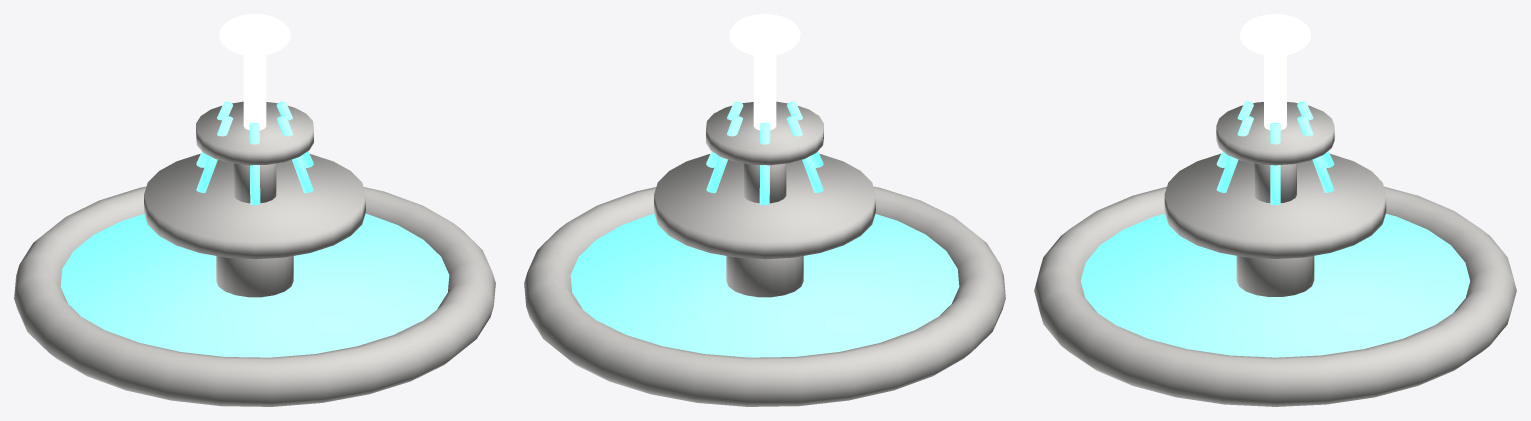
Rendered from fountain.glb.
The picture shows the model from 3 angles, left to right: view 1: azimuth 30°, elevation 25°; view 2: azimuth 150°, elevation 25°; view 3: azimuth 270°, elevation 25°; orthographic projection.
Visible parts, largest first — view 1: BasinPool, Torus, Bowl1, Bowl2, Pedestal1, JetCrown, MainJet, Pedestal2, SideJet_4, SideJet_5, SideJet_3; view 2: BasinPool, Torus, Bowl1, Bowl2, Pedestal1, JetCrown, MainJet, Pedestal2, SideJet_2, SideJet_1, SideJet_3; view 3: BasinPool, Torus, Bowl1, Bowl2, Pedestal1, JetCrown, MainJet, Pedestal2, SideJet_0, SideJet_1, SideJet_5.
Part boxes in pixels (<box>): BasinPool: <box>60,213,449,357</box>; Torus: <box>14,186,495,406</box>; Bowl1: <box>144,154,365,259</box>; Bowl2: <box>196,101,313,165</box>; Pedestal1: <box>216,256,293,297</box>; JetCrown: <box>219,14,290,56</box>; MainJet: <box>243,55,266,130</box>; Pedestal2: <box>233,163,276,203</box>; SideJet_4: <box>249,123,260,205</box>; SideJet_5: <box>277,115,313,193</box>; SideJet_3: <box>196,115,233,193</box>; BasinPool: <box>570,213,959,357</box>; Torus: <box>524,186,1005,406</box>; Bowl1: <box>654,154,875,259</box>; Bowl2: <box>706,101,823,165</box>; Pedestal1: <box>726,256,803,297</box>; JetCrown: <box>729,14,800,56</box>; MainJet: <box>753,55,776,130</box>; Pedestal2: <box>743,163,786,203</box>; SideJet_2: <box>759,123,770,205</box>; SideJet_1: <box>706,115,742,193</box>; SideJet_3: <box>786,115,823,193</box>; BasinPool: <box>1081,214,1469,357</box>; Torus: <box>1034,186,1516,406</box>; Bowl1: <box>1164,153,1386,258</box>; Bowl2: <box>1216,102,1334,165</box>; Pedestal1: <box>1236,256,1314,296</box>; JetCrown: <box>1239,14,1311,56</box>; MainJet: <box>1264,55,1286,130</box>; Pedestal2: <box>1254,163,1296,202</box>; SideJet_0: <box>1270,123,1280,204</box>; SideJet_1: <box>1297,115,1334,192</box>; SideJet_5: <box>1216,115,1253,192</box>.
Bounding box in the file's own units: 9.36 × 6.27 × 9.36.
